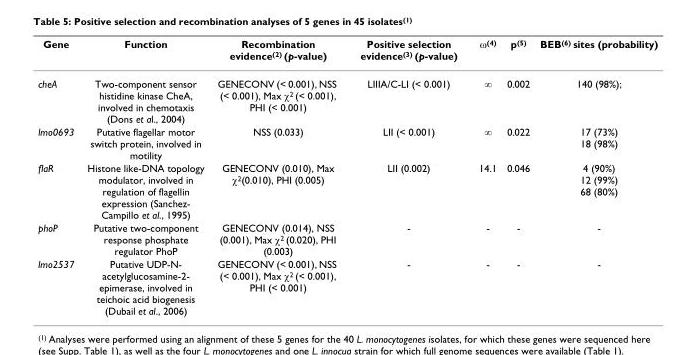table: (37, 36, 657, 316)
table column: (210, 36, 347, 316), (79, 36, 210, 316), (534, 36, 657, 316), (347, 36, 467, 316), (37, 36, 79, 316), (467, 36, 501, 316), (501, 36, 534, 316)
table column header: (37, 36, 657, 68)
table row: (37, 161, 657, 220), (37, 257, 657, 316), (37, 68, 657, 124), (37, 124, 657, 161), (37, 220, 657, 257), (37, 36, 657, 68)
